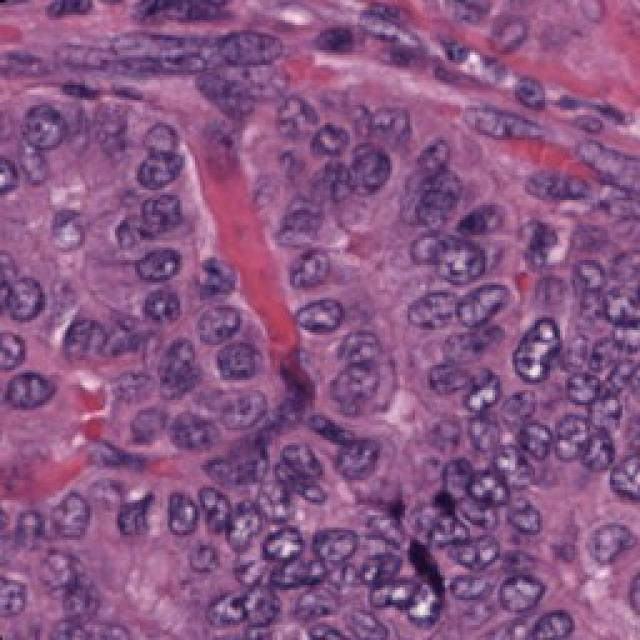abnormal: (500, 298, 572, 407), (312, 337, 398, 428), (415, 442, 503, 526), (285, 507, 373, 588), (480, 566, 571, 640), (343, 118, 413, 212), (38, 193, 112, 280), (0, 338, 78, 419), (10, 87, 82, 168), (330, 420, 402, 497), (200, 315, 272, 388), (420, 237, 505, 298), (285, 287, 373, 345), (185, 242, 258, 310), (160, 463, 210, 560), (128, 235, 204, 298), (200, 379, 270, 444), (129, 135, 194, 197)
